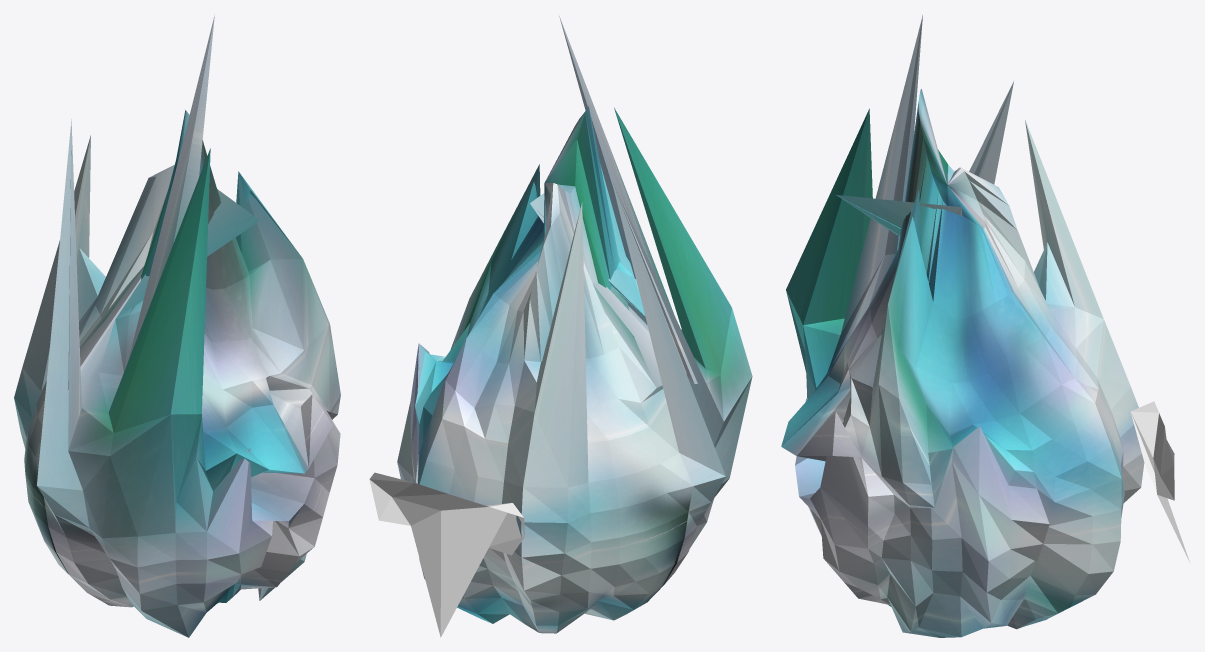
The model's file is thinkito_version.glb.
The picture shows the model from 3 angles, left to right: view 1: azimuth 30°, elevation 25°; view 2: azimuth 150°, elevation 25°; view 3: azimuth 270°, elevation 25°; orthographic projection. The views are drawn at different scales.
Visible parts, largest first — view 1: Sphere; view 2: Sphere, Plane; view 3: Sphere, Plane.
Part boxes in pixels (x1,y1,x2,y2): Sphere: (14, 14, 340, 637); Sphere: (397, 16, 752, 633); Plane: (369, 472, 524, 637); Sphere: (781, 15, 1144, 637); Plane: (1130, 401, 1189, 562).
Size of the model in its own units: 2.2 by 4.1 by 2.47.
Materials: 2 (1 with a texture image).
